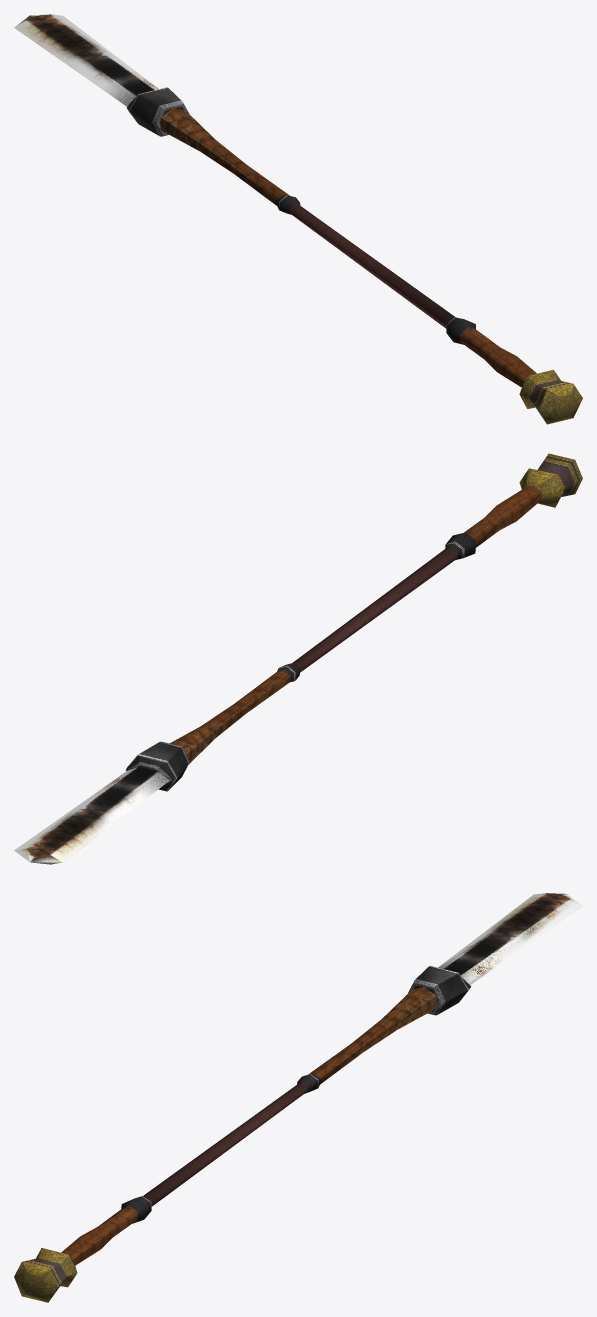
Rendered from spear_kurumi_kurumi1.glb.
3 views of the same model, one above another, from view 1: azimuth 30°, elevation 25°; view 2: azimuth 150°, elevation 25°; view 3: azimuth 330°, elevation 25° (orthographic).
Bounding box in the file's own units: 0.1701 × 0.1134 × 3.18.
1 material, 1 textured.
